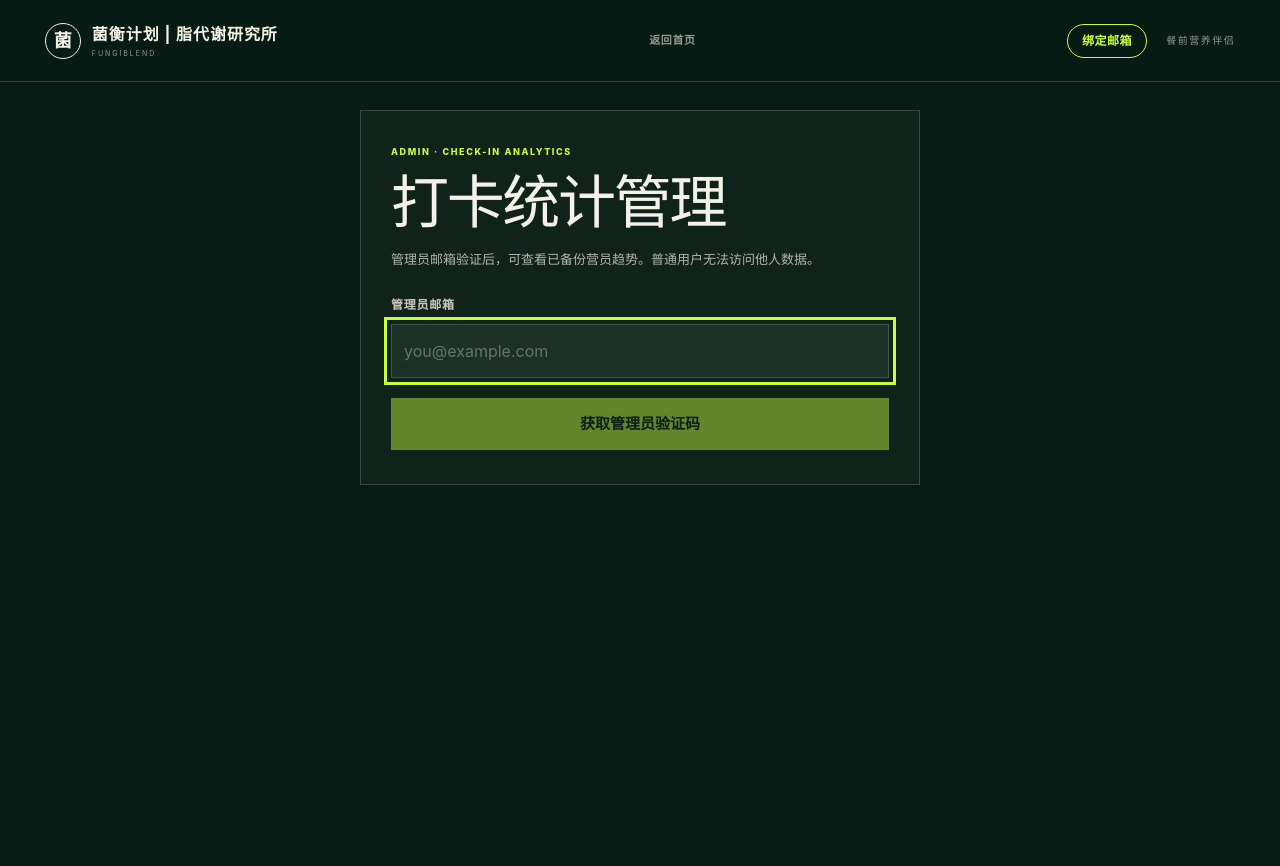
Test: admin check-in page › logs in with email OTP and lists campers without exposing internal UID
Type "admin@example.com" into the field labelled "管理员邮箱".
click(640, 351); type("admin@example.com")  # box [391, 324, 889, 378]
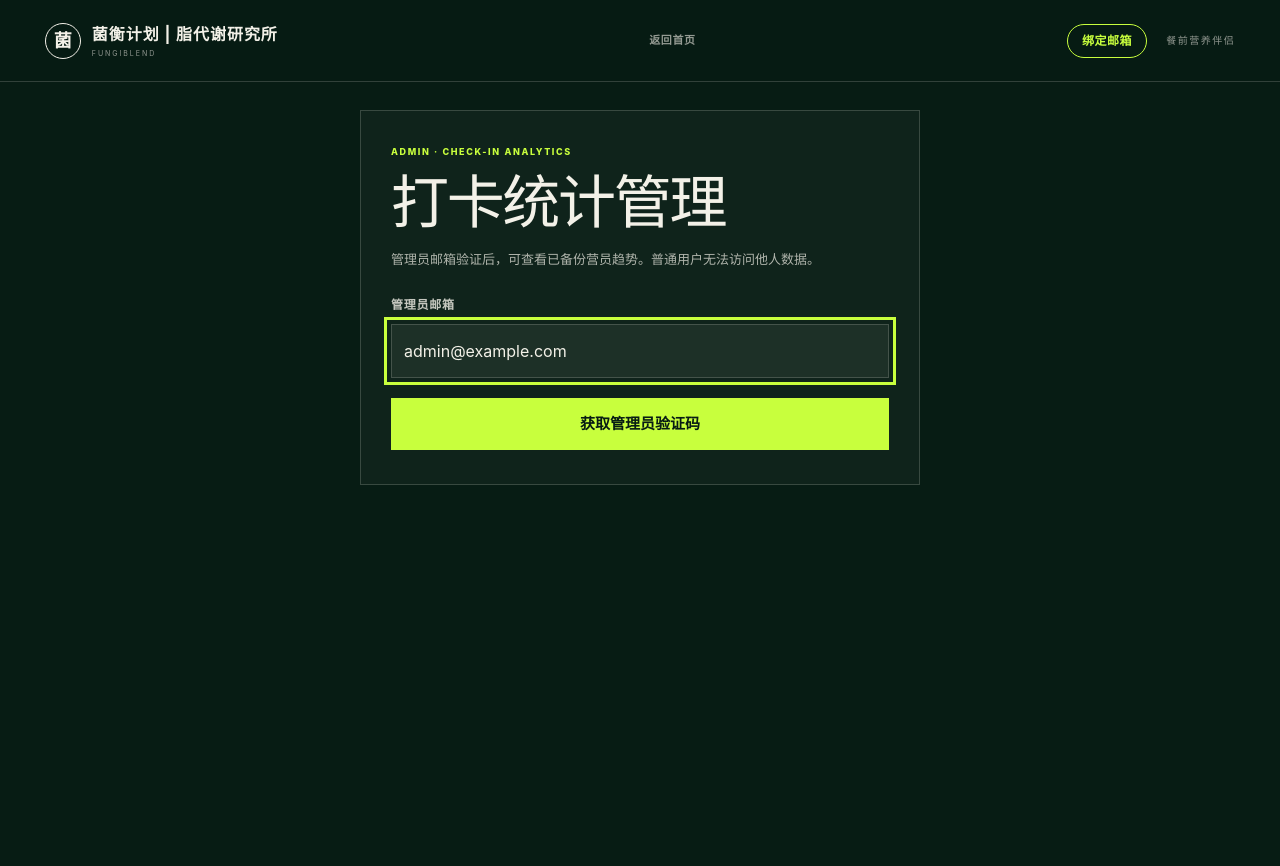
Click the button "获取管理员验证码".
click(640, 424)  # box [391, 398, 889, 450]
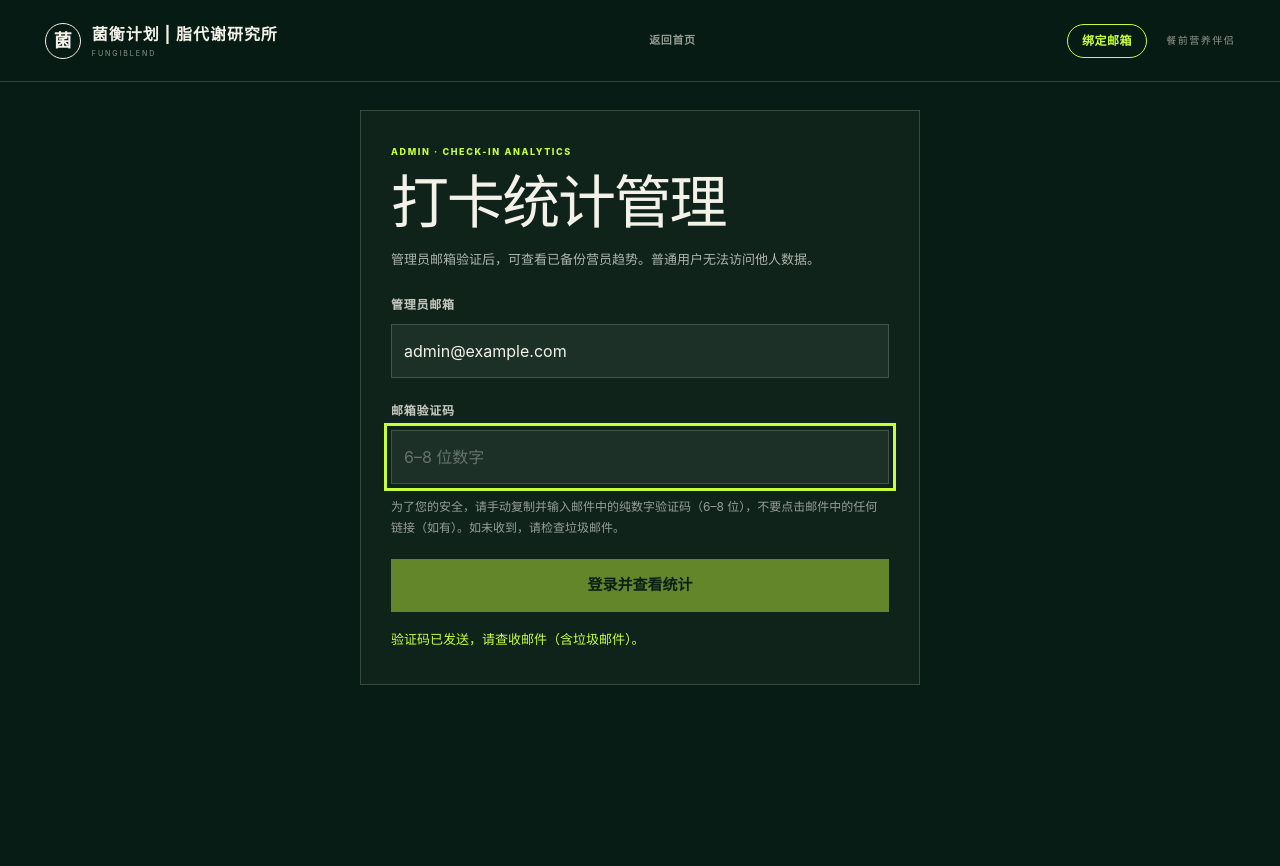
Type "123456" into the field labelled "邮箱验证码".
click(640, 457); type("123456")  # box [391, 430, 889, 484]
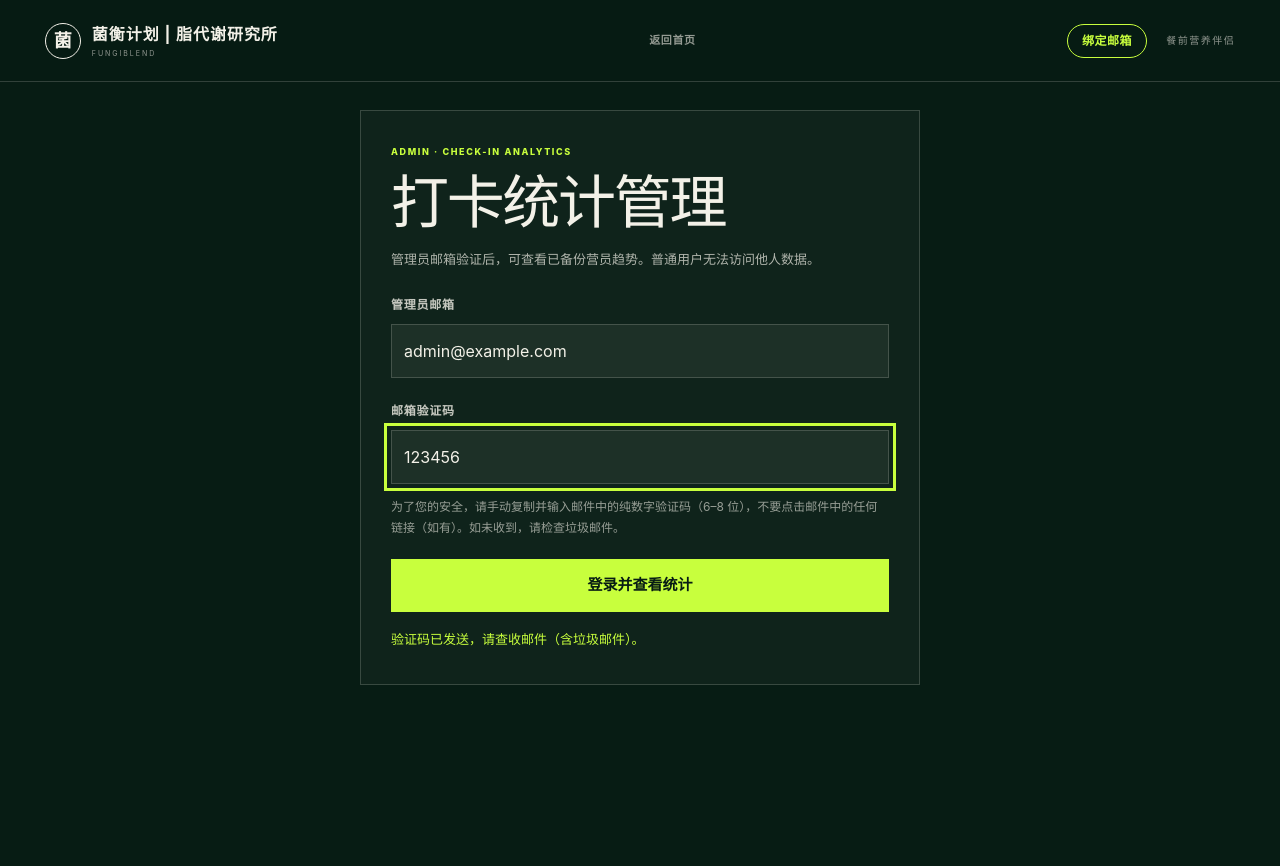
Click the button "登录并查看统计".
click(640, 585)  # box [391, 559, 889, 612]
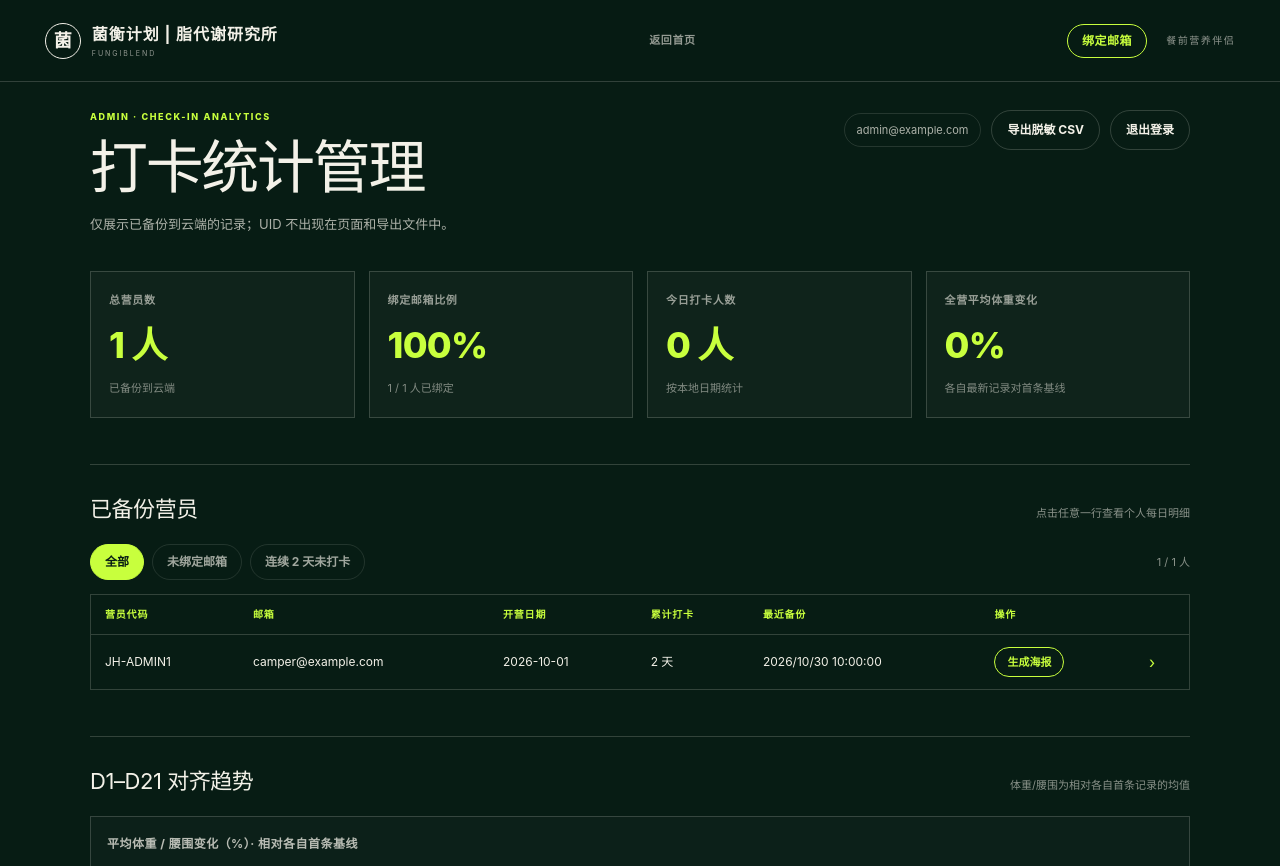
Result: the text "JH-ADMIN1" is shown at [91, 634, 239, 689]
Result: the text "camper@example.com" is shown at [239, 634, 489, 689]
Result: the text "2 天" is shown at [637, 634, 749, 689]
